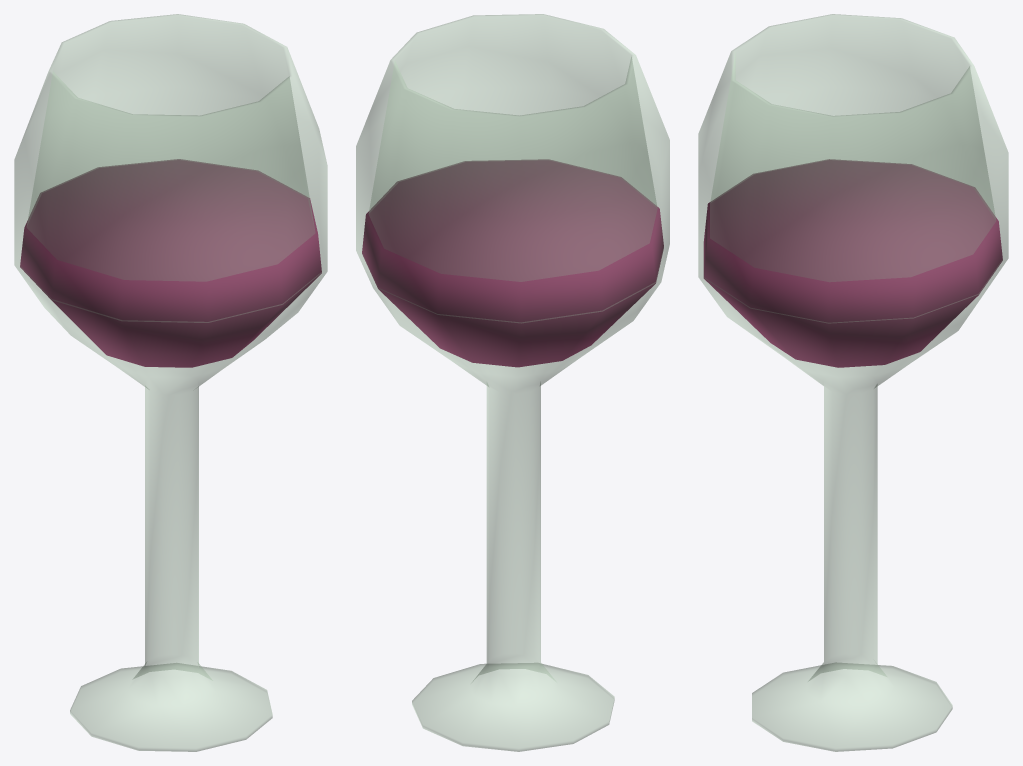
Rendered from WineGlass.fbx.
The picture shows the model from 3 angles, left to right: view 1: azimuth 30°, elevation 25°; view 2: azimuth 150°, elevation 25°; view 3: azimuth 270°, elevation 25°; orthographic projection.
Parts seen in each view (by area): view 1: Cylinder.030; view 2: Cylinder.030; view 3: Cylinder.030.
Boxes of the visible parts, x1,y1,x2,y2 form: Cylinder.030: [14, 14, 327, 751]; Cylinder.030: [356, 14, 669, 751]; Cylinder.030: [698, 14, 1008, 751].
Size of the model in its own units: 11.84 by 26.78 by 11.72.
